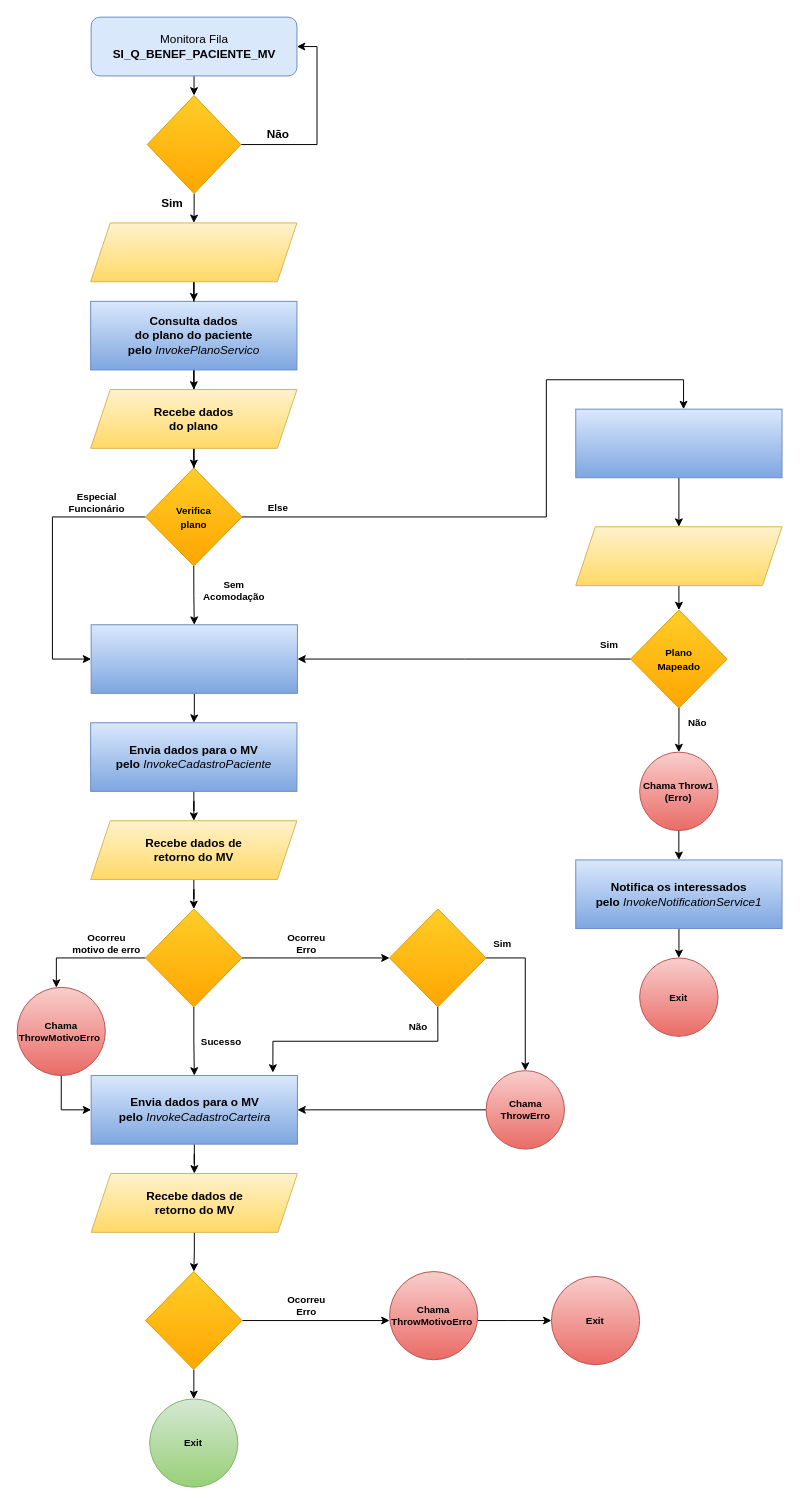
The diagram is 800 pixels wide and 1504 high, and some of its shapes have lost their labels. Here are the shapes that lost their labels. From the top down, the centre of each, then its label:
At point 193,144: "Fila alimentada".
At point 193,252: "Recebe dados do paciente".
At point 678,443: "Consultar código do plano pelo InvokeObterCodPlano".
At point 678,556: "Recebe código".
At point 193,658: "Praparar dados para envio ao MV".
At point 193,957: "Verifica Integração de Paciente".
At point 437,957: "Erro Invalida Integração".
At point 193,1320: "Verifica Integração de Carteira".
